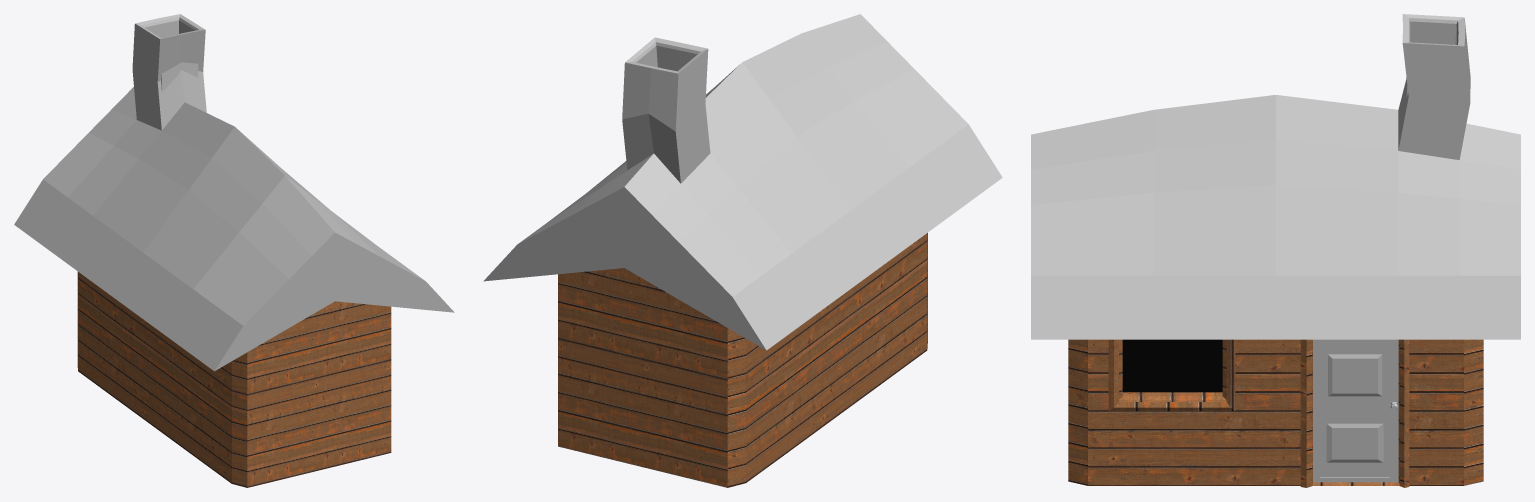
Rendered from farmhouseDV8.fbx.
3 renders of one model, left to right at view 1: azimuth 30°, elevation 25°; view 2: azimuth 150°, elevation 25°; view 3: azimuth 270°, elevation 25°, orthographic. The views are drawn at different scales.
Parts seen in each view (by area): view 1: Cube.002, Cube; view 2: Cube.002, Cube; view 3: Cube.002, Cube, Cube.001.
Boxes of the visible parts, left/top/right/bottom form: Cube.002: left=14, top=14, right=454, bottom=371; Cube: left=77, top=271, right=391, bottom=487; Cube.002: left=483, top=14, right=1002, bottom=350; Cube: left=558, top=233, right=927, bottom=487; Cube.002: left=1031, top=14, right=1520, bottom=339; Cube: left=1068, top=339, right=1483, bottom=487; Cube.001: left=1313, top=339, right=1398, bottom=482.
Size of the model in its own units: 563 by 753 by 812.
